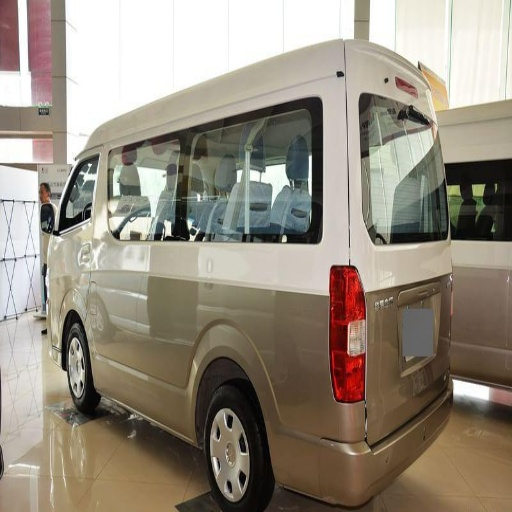back_bumper: (280, 394, 448, 503)
back_left_light: (329, 268, 365, 401)
front_left_door: (101, 270, 137, 363)
trunk: (132, 246, 328, 455), (333, 265, 442, 436)
